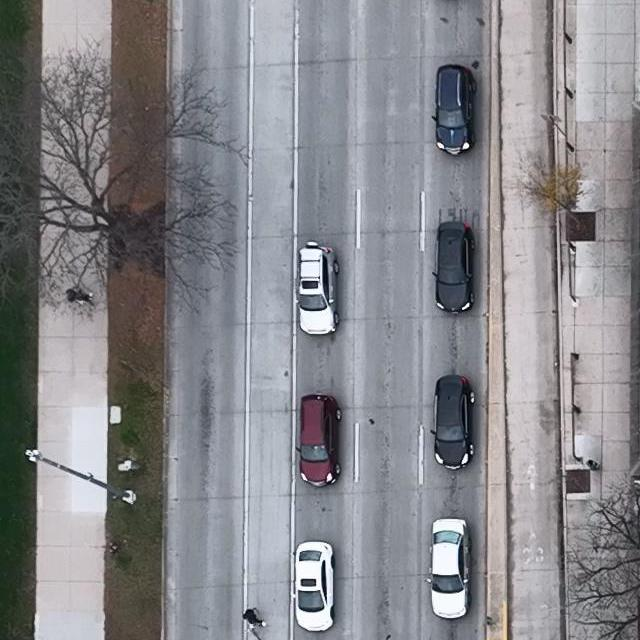car: (425, 519, 471, 619), (295, 240, 341, 338), (429, 375, 476, 470), (295, 395, 342, 487), (431, 64, 476, 157), (291, 541, 336, 633), (432, 221, 475, 315)
